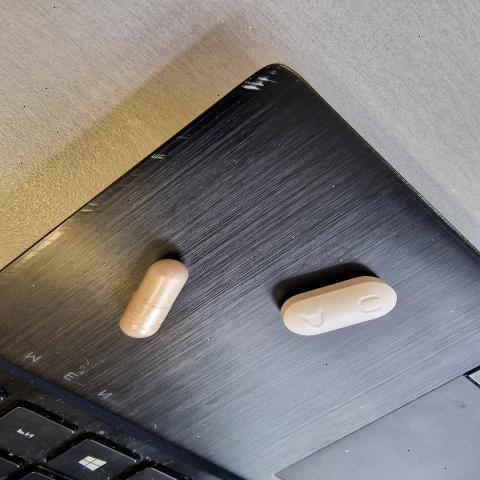Pill: (266, 263, 410, 366), (94, 243, 206, 361)
